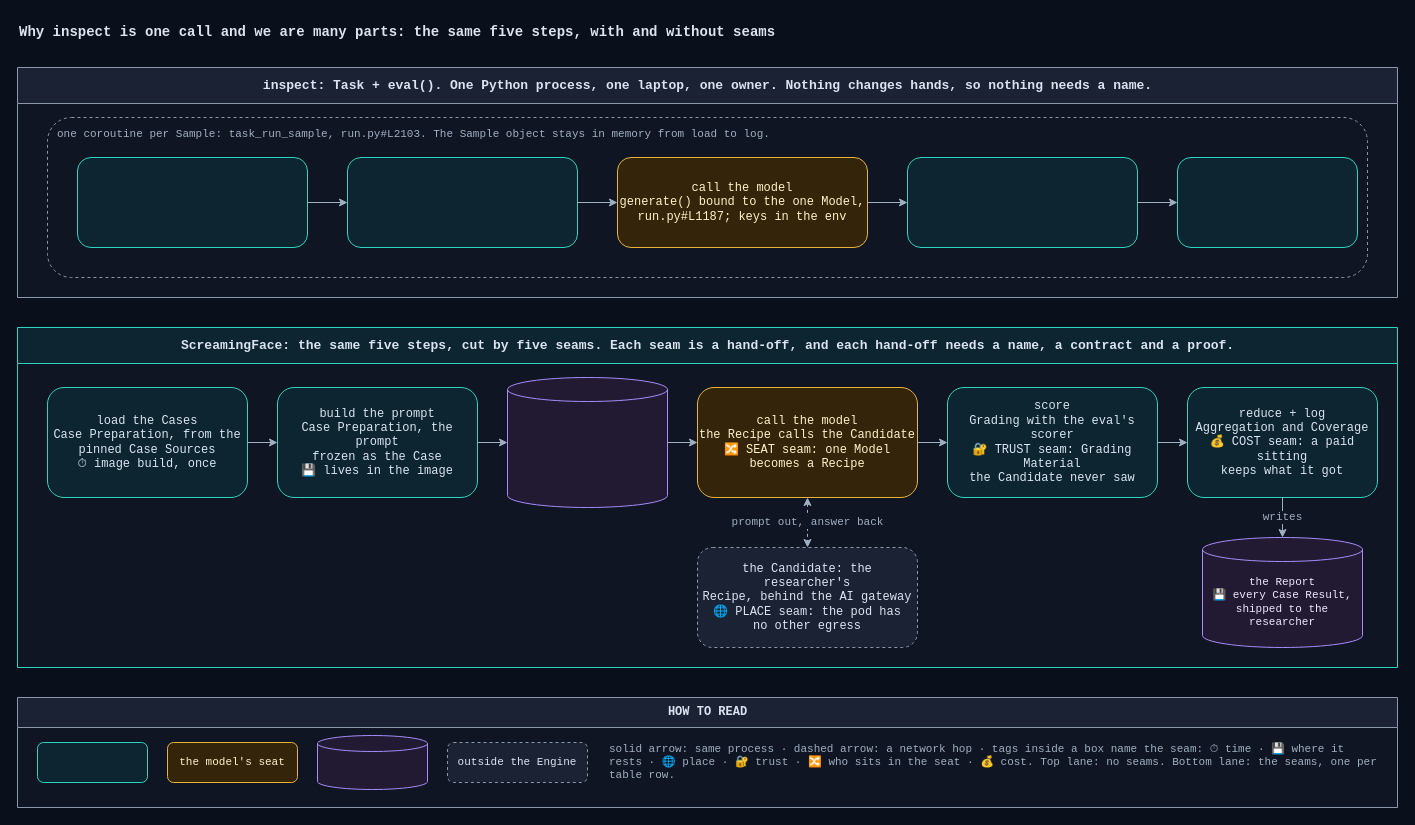
Image size: 1415x825. Some labels were removed from this diagram. Each missing label, with the box of its shape:
a step: (36, 742, 148, 782)
build the prompt the solver chain, on the same Sample: (346, 156, 578, 248)
data at rest: (316, 734, 428, 790)
load the Samples hf_dataset() at run time, Sample(input, target, choices): (76, 156, 308, 248)
log one .eval file on disk; an error aborts, rerun is free: (1176, 156, 1358, 248)
prepared Cases + Case Digest ⏱ TIME seam: built weeks before the sitting: (506, 376, 668, 508)
score scorer(state, target): the target was in the same process all along: (906, 156, 1138, 248)
